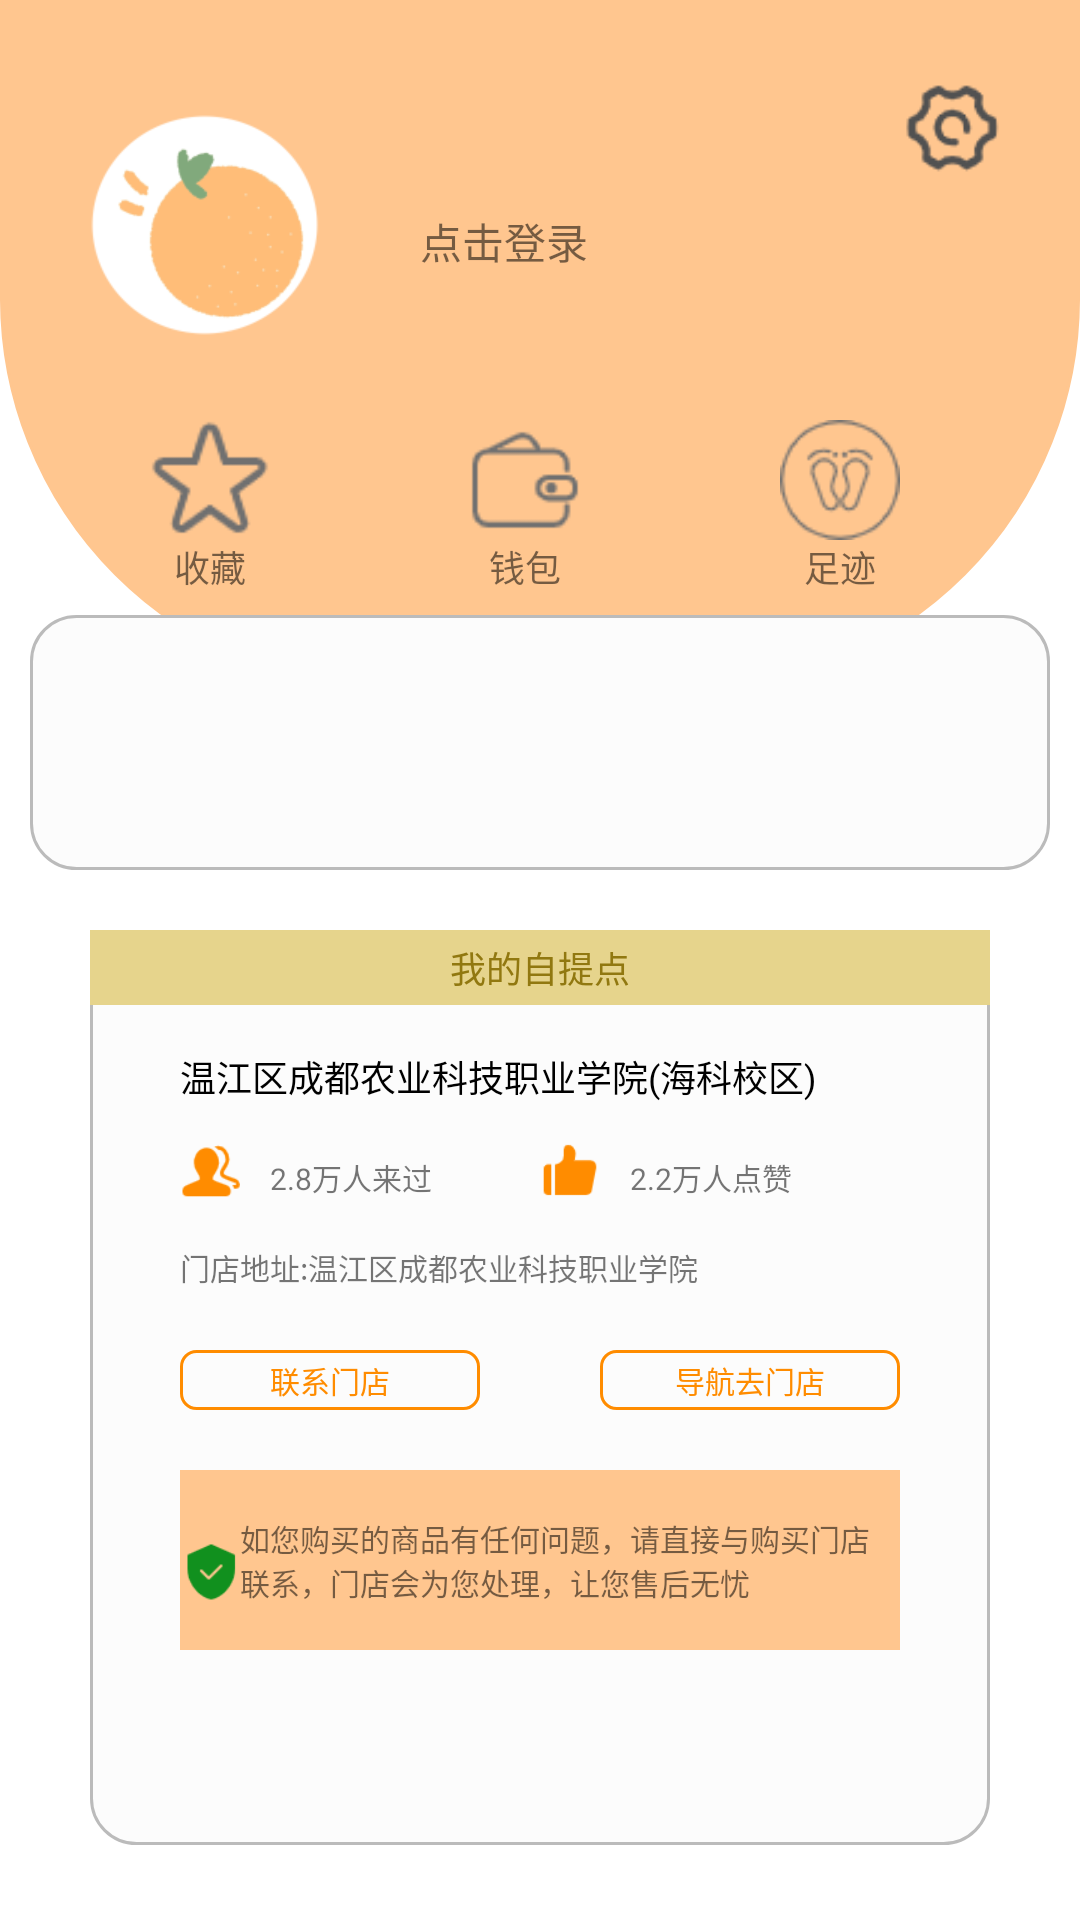

Icon bounding boxes for this 1080*1920 phone screenshot, format (x1, y1, x2, y2):
anquan: (187, 1544, 235, 1600)
dianzan: (543, 1145, 597, 1196)
qunzu: (182, 1145, 240, 1197)
